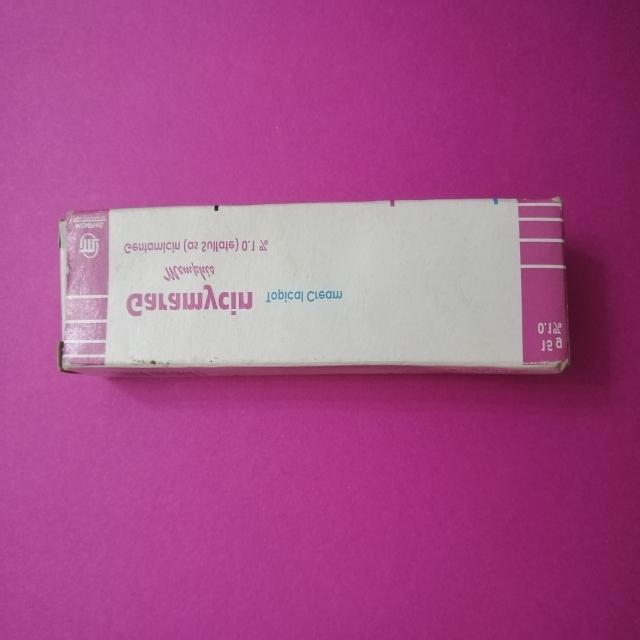Medicine Name: (121, 282, 263, 322)
